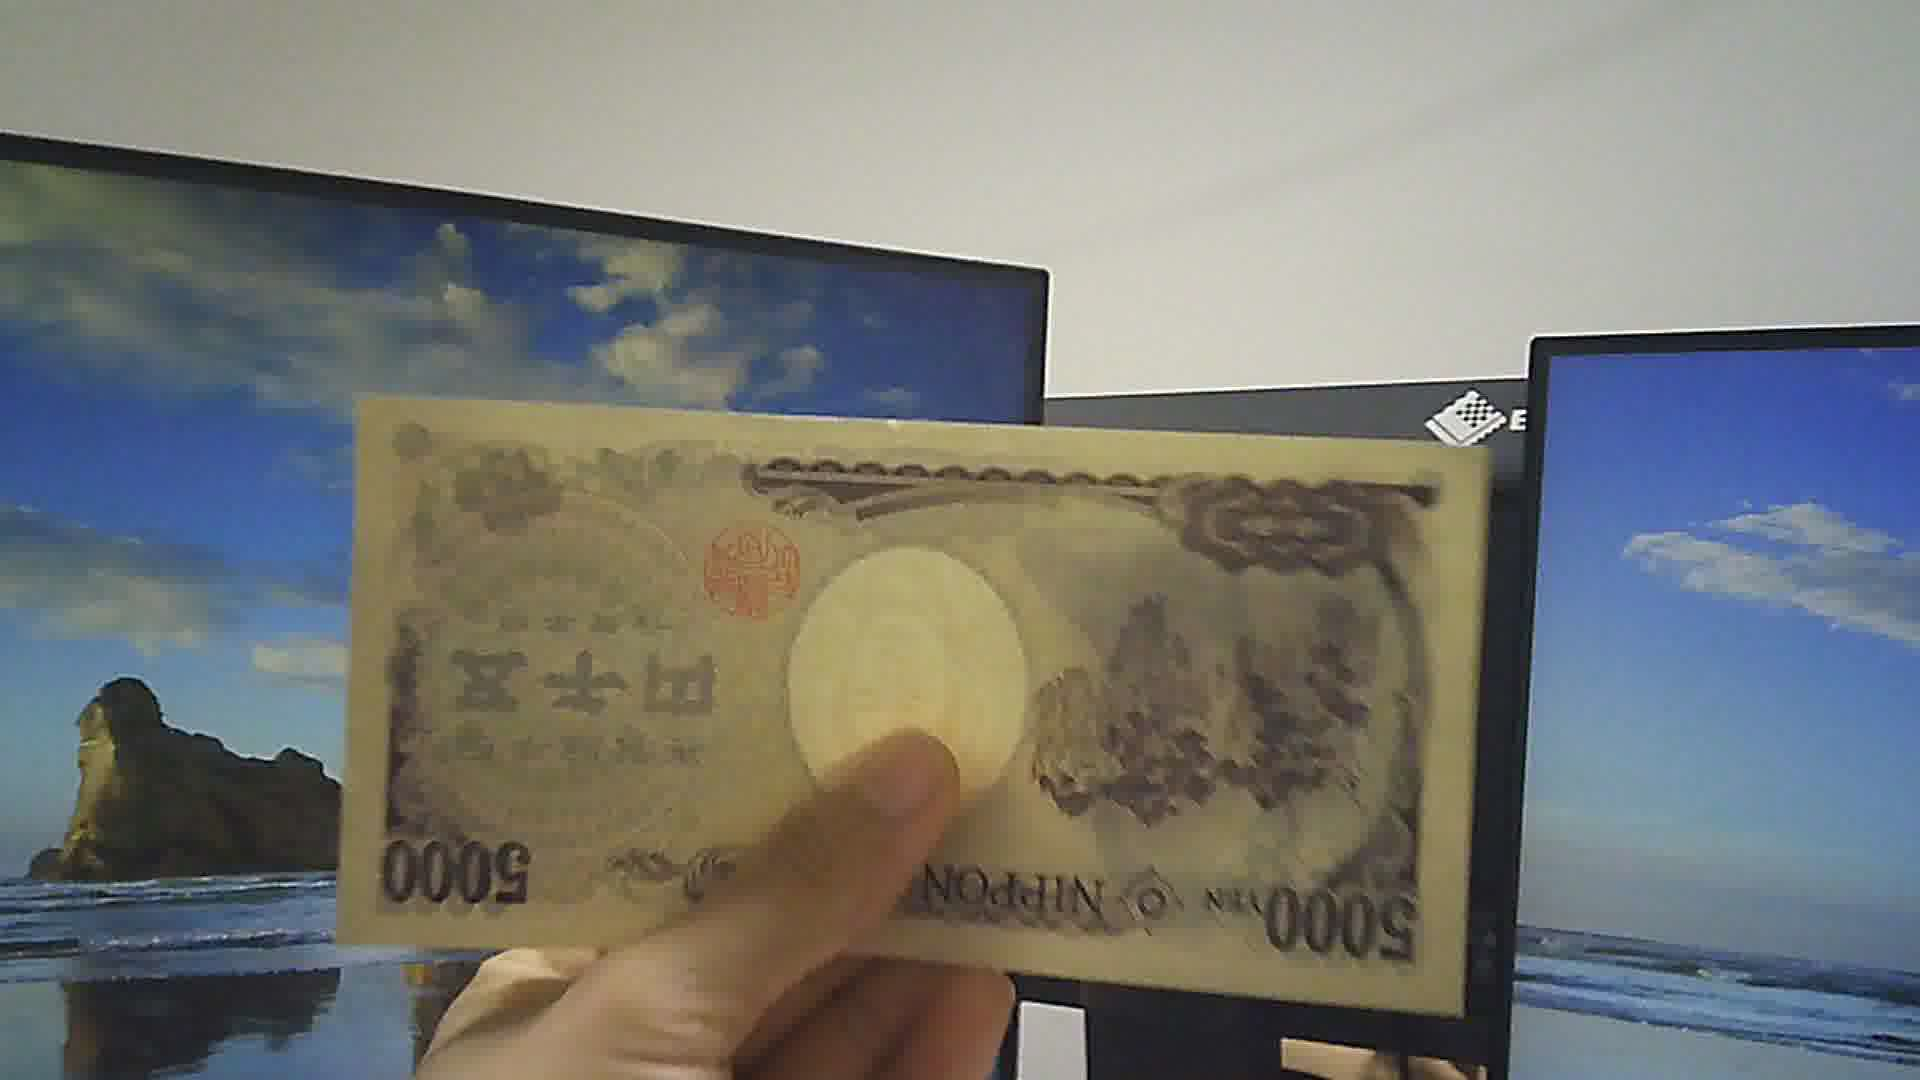5,000 Yen: (330, 375, 1520, 1036)
